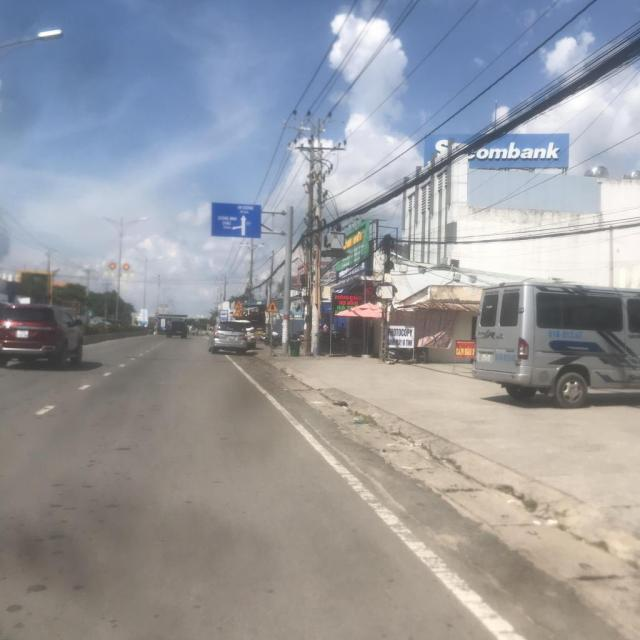cam_xe_di_nguoc_chieu: (155, 312, 159, 316)
cho_ngoat_nguy_hiem_ben_trai: (233, 309, 244, 317)
chu_y_nguoi_di_bo_cat_ngang: (234, 300, 244, 309)
giao_nhau_voi_duong_khong_uu_tien: (265, 300, 279, 312)
huong_phai_di_vuot_chuong_ngai_vat_phai: (155, 317, 159, 321)
khac: (210, 202, 262, 238), (220, 311, 228, 321)
